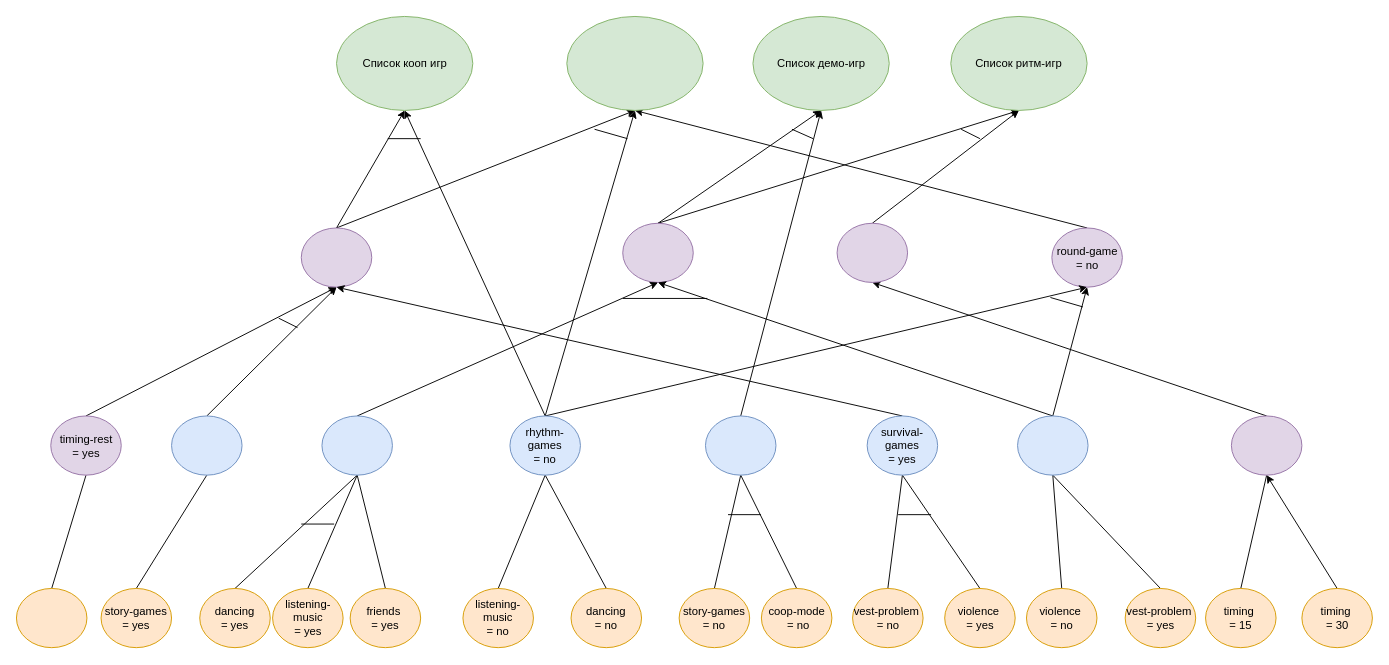
The diagram is 1389 pixels wide and 665 high, and some of its shapes have lost their labels. The shapes that lost their labels are listed below. From the top down, each one's centre as x and y in pixels, then its label:
At point 634,63: "Список симуляторов".
At point 336,257: "low-time = no".
At point 657,252: "low-time = yes".
At point 872,252: "round-game = yes".
At point 206,445: "story-coop = Да".
At point 356,445: "rhythm-games = yes".
At point 740,445: "story-coop = no".
At point 1052,445: "survival-games = no".
At point 1266,445: "timing-rest no".
At point 51,618: "timing = 60".
